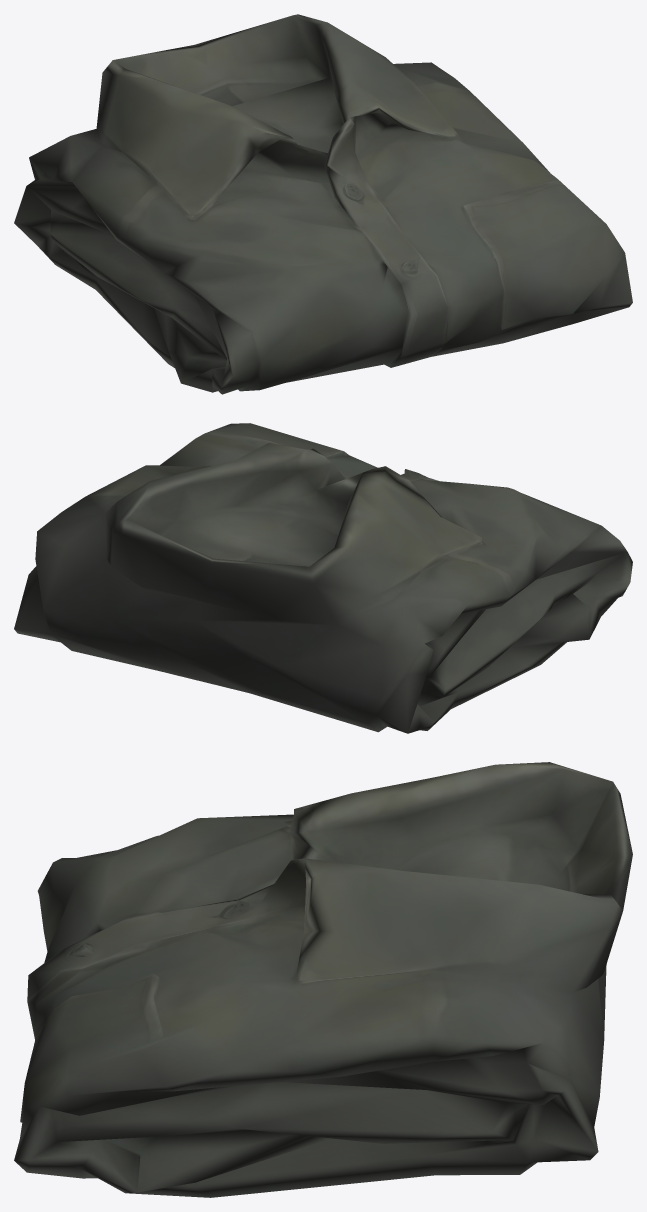
Rendered from ENV_SMALL_PROPS_CLOTH_FOLDED_v001_RAW.glb.glb.
The picture shows the model from 3 angles, top to bottom: view 1: azimuth 30°, elevation 25°; view 2: azimuth 150°, elevation 25°; view 3: azimuth 270°, elevation 25°; orthographic projection. The views are drawn at different scales.
Parts seen in each view (by area): view 1: tripo_node_13759f14-a1a2-4c4e-a0b2-9fe08a8476c0; view 2: tripo_node_13759f14-a1a2-4c4e-a0b2-9fe08a8476c0; view 3: tripo_node_13759f14-a1a2-4c4e-a0b2-9fe08a8476c0.
Part boxes in pixels (x1,y1,x2,y2): tripo_node_13759f14-a1a2-4c4e-a0b2-9fe08a8476c0: (14,14,632,394); tripo_node_13759f14-a1a2-4c4e-a0b2-9fe08a8476c0: (14,423,632,733); tripo_node_13759f14-a1a2-4c4e-a0b2-9fe08a8476c0: (14,762,632,1197).
Size of the model in its own units: 0.9718 by 0.4532 by 0.9882.
Materials: 1 (1 with a texture image).
